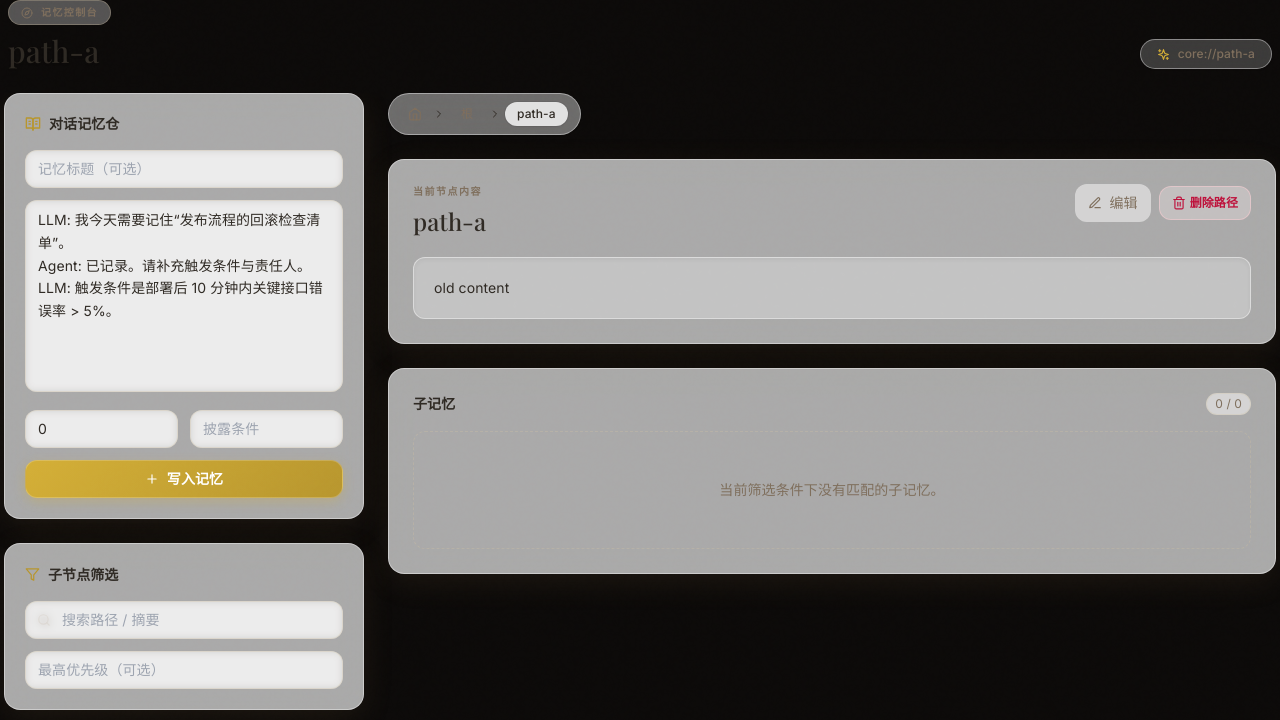
Test: MemoryBrowser › shows write_guard skip feedback when update returns updated=false
Click the button "编辑": (1113, 203) [1074,184,1151,222]
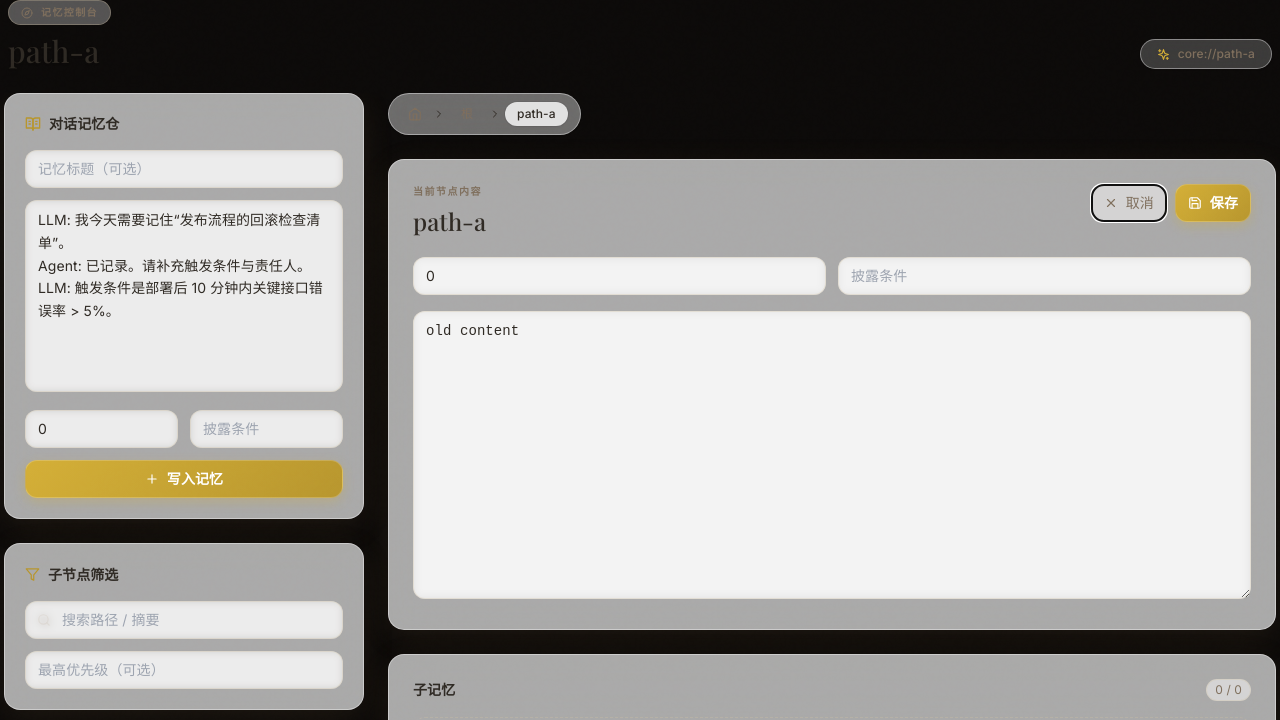
Replace the text in the text box showing "old content" below "当前节点内容" with "old content changed": (832, 455) [413,311,1251,599]
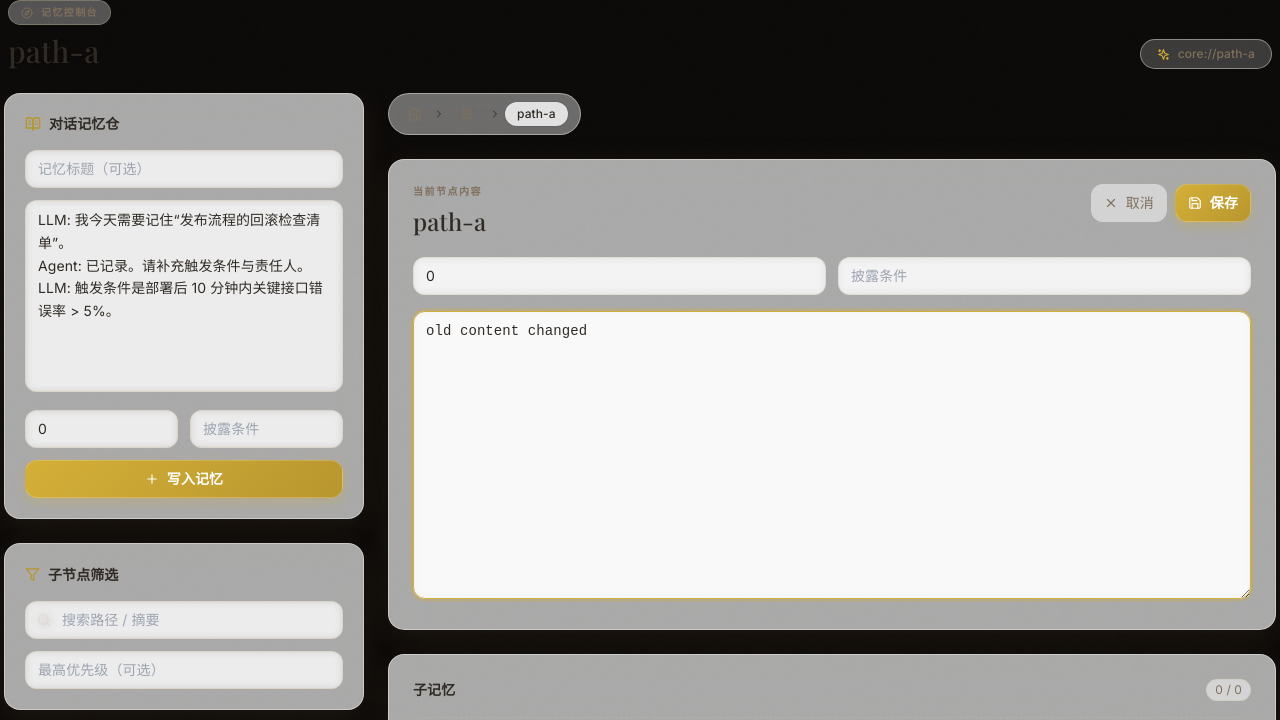
Click the button "保存": (1213, 203) [1175,184,1251,222]
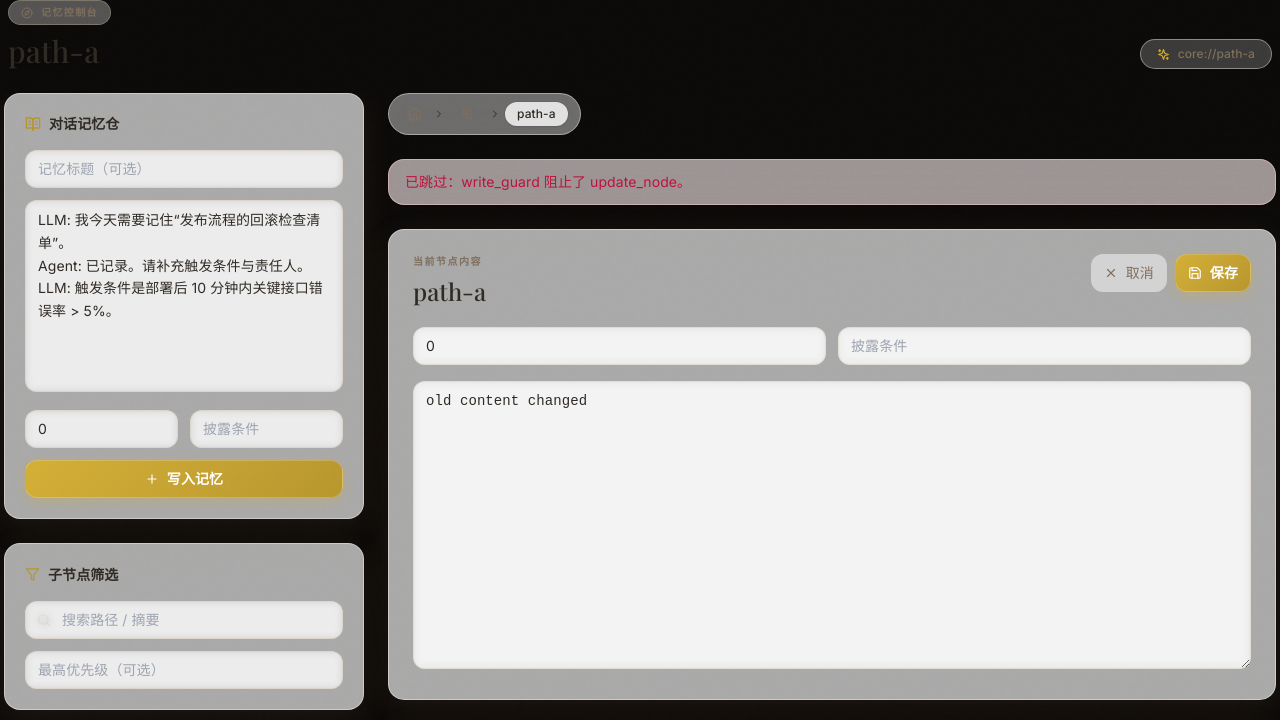
Check: the text "已跳过：write_guard 阻止了 update_node。" is shown, box [388,159,1276,205]
